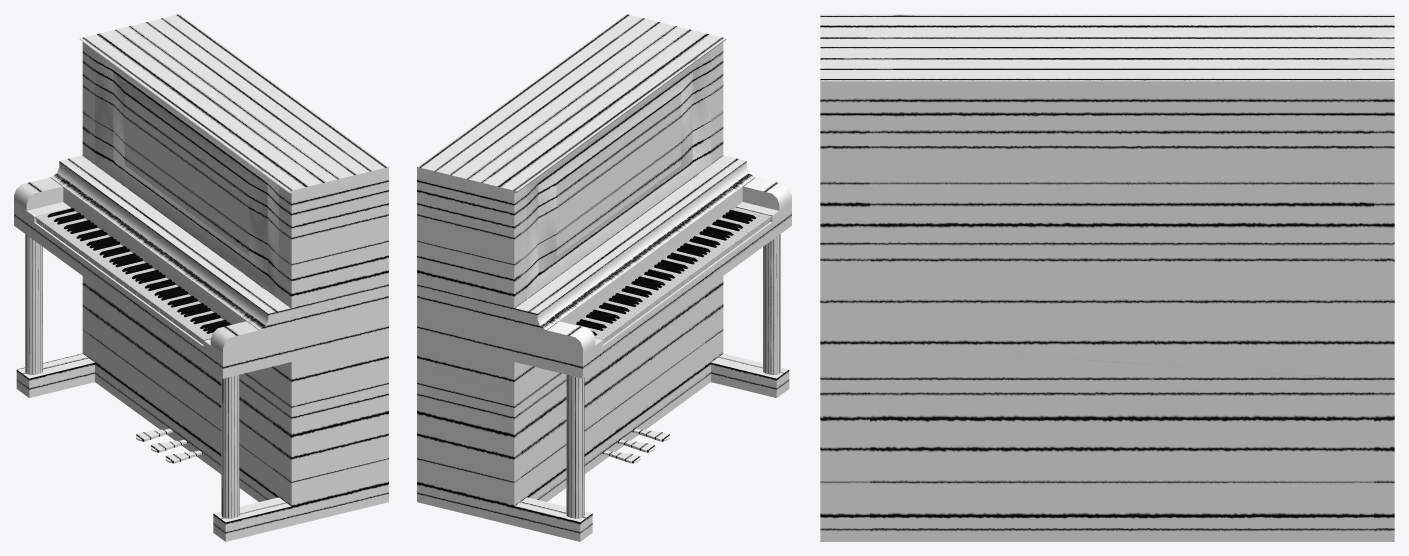
Rendered from Piano.fbx.
3 views of the same model, side by side, from view 1: azimuth 30°, elevation 25°; view 2: azimuth 150°, elevation 25°; view 3: azimuth 270°, elevation 25° (orthographic). The views are drawn at different scales.
Parts seen in each view (by area): view 1: Piano; view 2: Piano; view 3: Piano.
Boxes of the visible parts, bbox=[...] form: Piano: bbox=[14, 14, 388, 541]; Piano: bbox=[417, 14, 791, 541]; Piano: bbox=[820, 14, 1394, 541].
Bounding box in the file's own units: 67.81 × 131 × 148.
2 materials, 2 textured.
